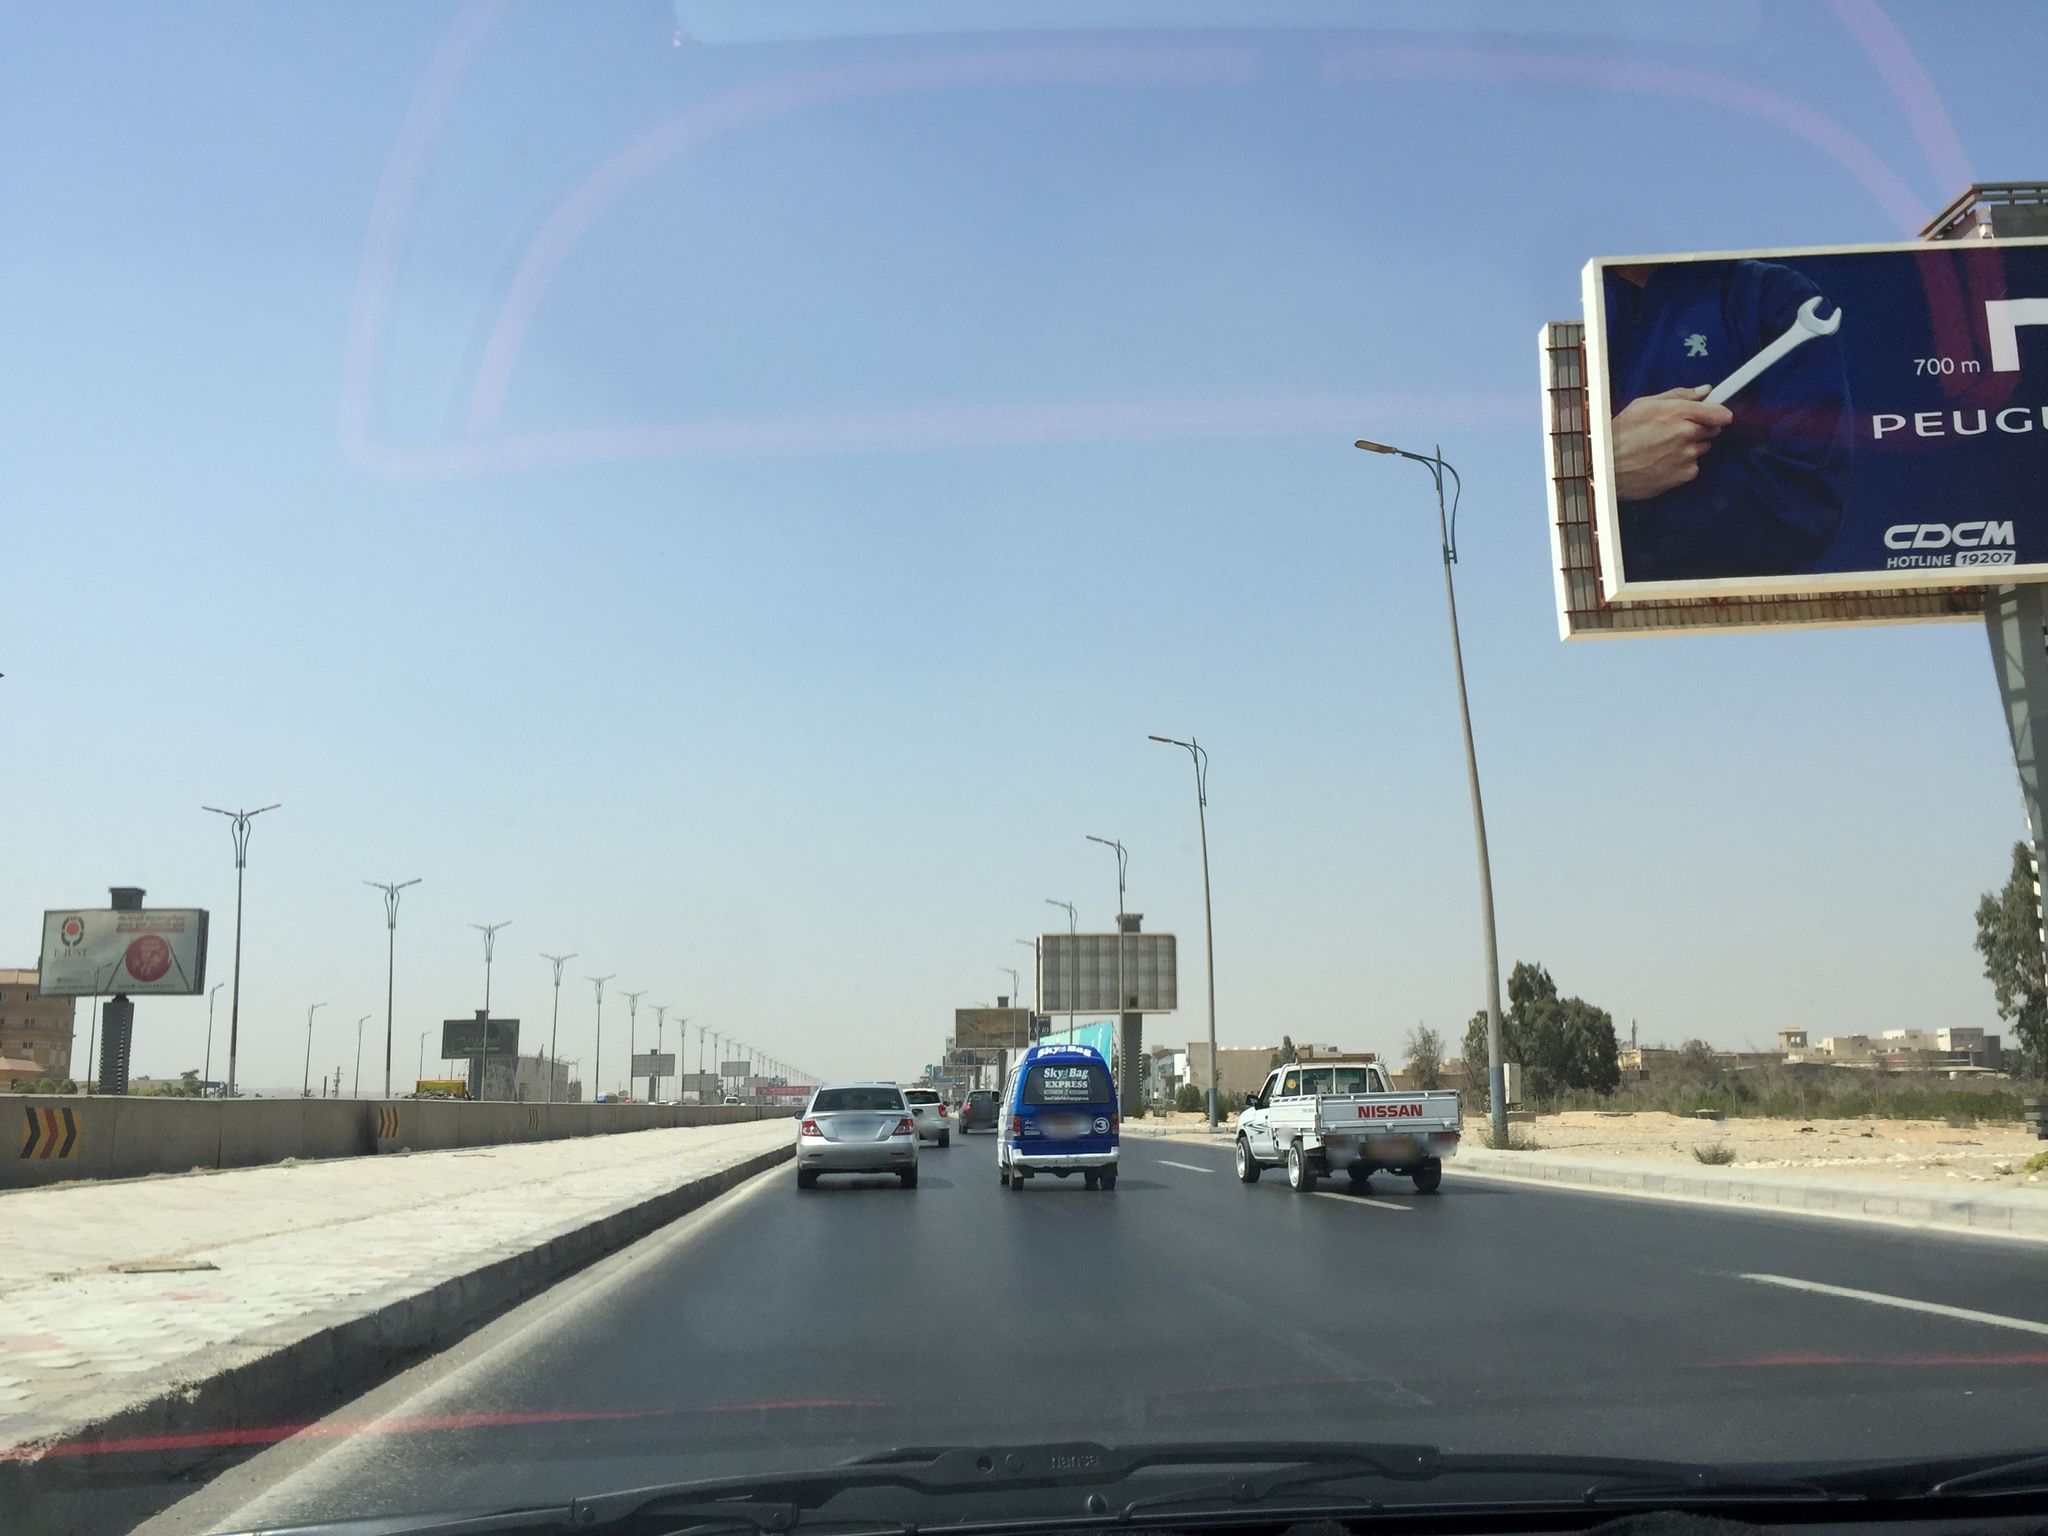car: (995, 1042, 1122, 1189), (793, 1078, 924, 1189), (901, 1084, 950, 1150), (958, 1087, 1003, 1133)
truck: (1238, 1047, 1448, 1196)
